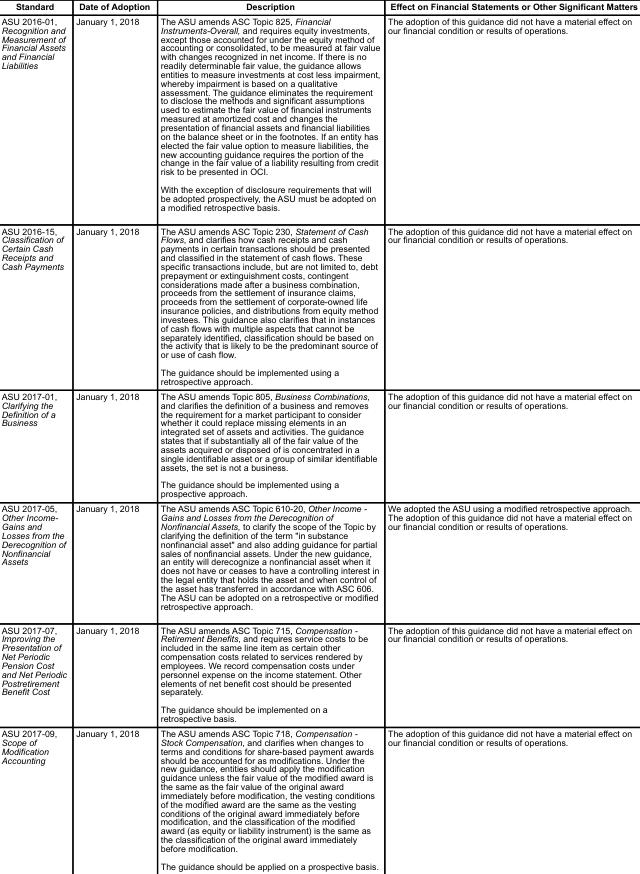table: (0, 1, 637, 870)
table column: (383, 1, 637, 870), (154, 1, 383, 870), (70, 1, 154, 870), (0, 1, 70, 870)
table column header: (0, 1, 637, 13)
table row: (0, 13, 637, 218), (0, 218, 637, 388), (0, 725, 637, 870), (0, 500, 637, 617), (0, 388, 637, 500), (0, 617, 637, 725), (0, 1, 637, 13)
